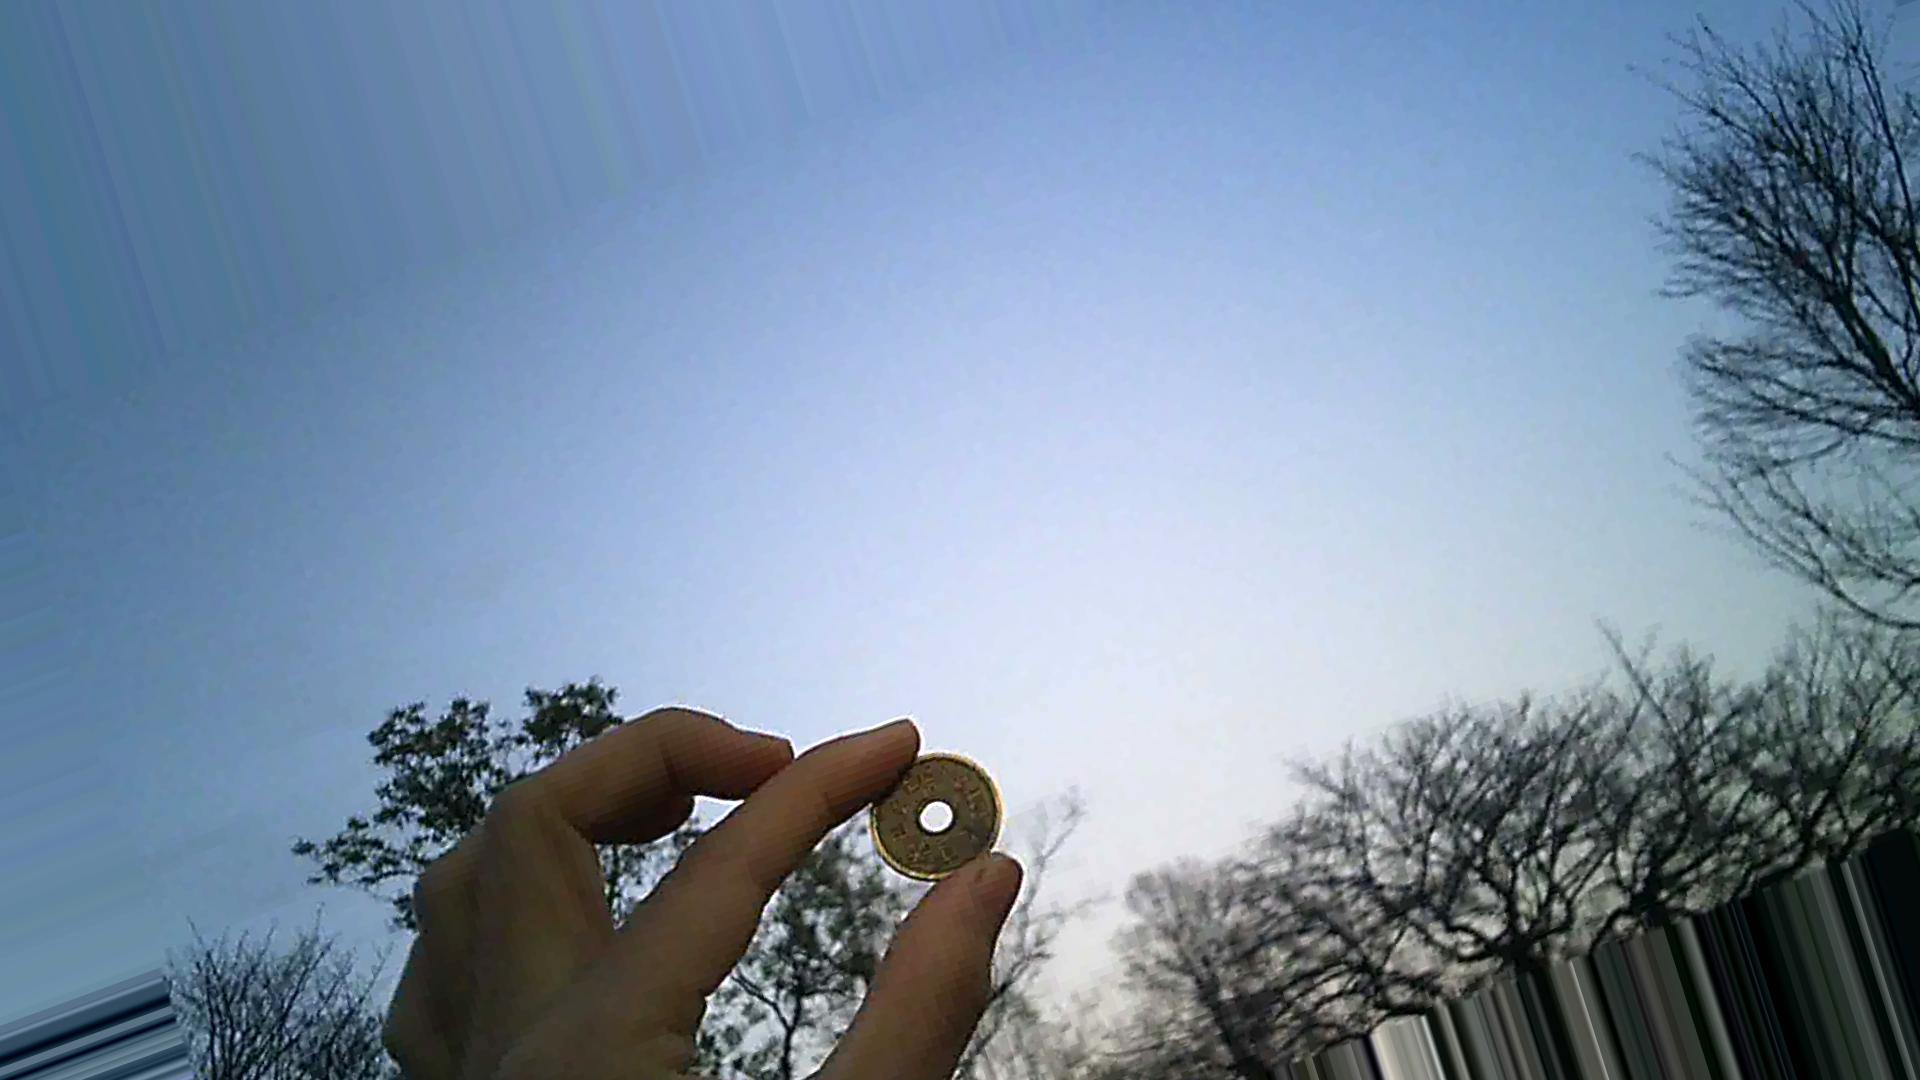5 Yen: (865, 729, 1001, 882)
